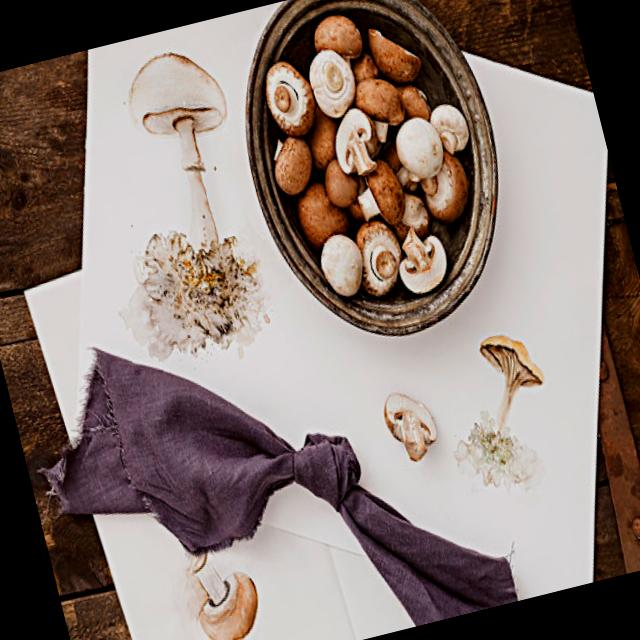Agaricus bisporus: (176, 537, 265, 640), (294, 40, 364, 134), (381, 100, 454, 190), (312, 225, 368, 306), (266, 122, 317, 199)
